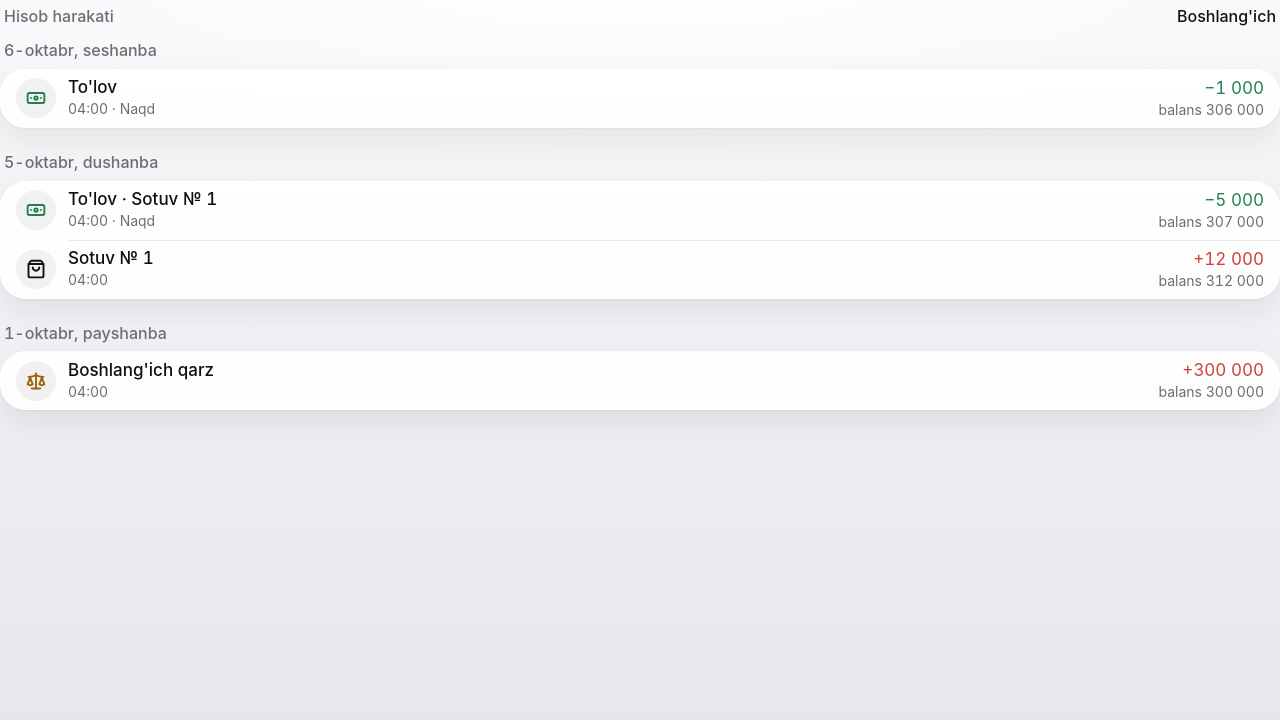
it: a payment or an opening balance entered on its own is edited or deleted from its sheet of actions
Click the button "To'lov 04:00 · Naqd −1 000 balans 306 000" at [36, 98], box 0,69 -> 1279,128
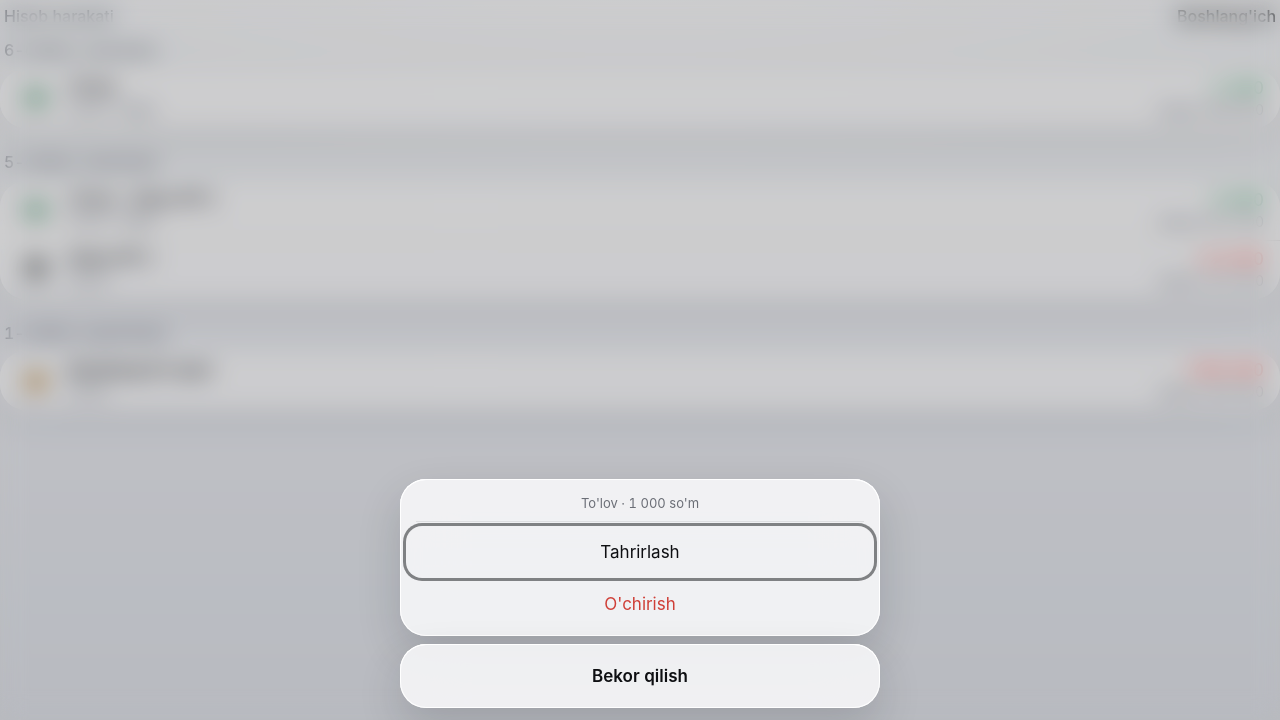
Result: the menu items read "Tahrirlash", "O'chirish", in this order
Click the menu item "Tahrirlash" at [640, 552], box 406,526 -> 874,578
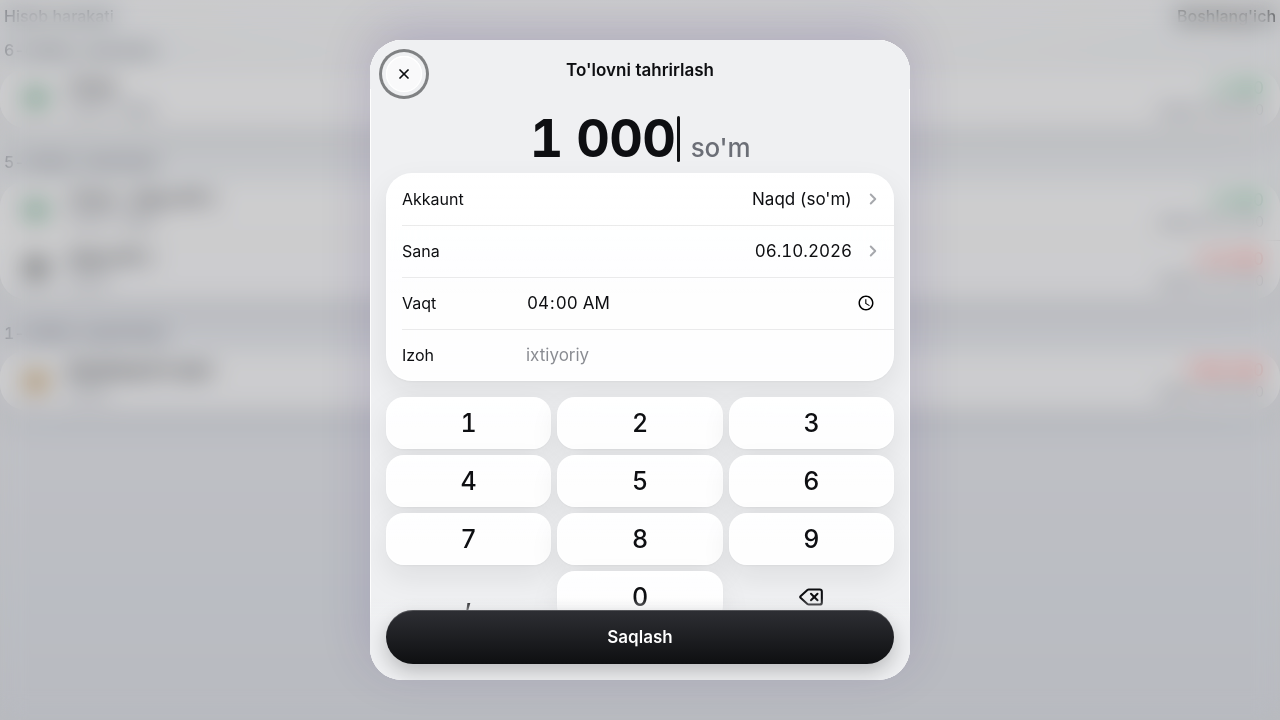
Result: the dialog "To'lovni tahrirlash" is shown at 370,40 -> 910,680
Press Escape
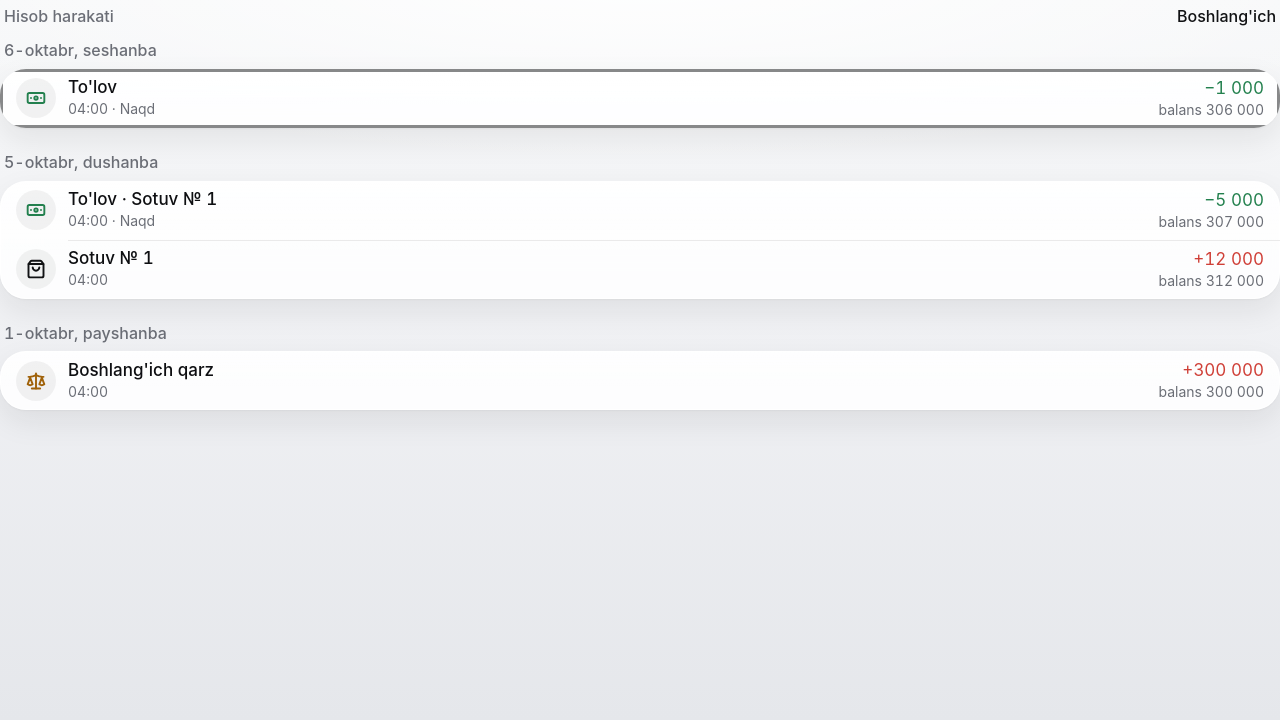
Result: the dialog is gone
Click the button "Boshlang'ich qarz 04:00 +300 000 balans 300 000" at [36, 381], box 0,351 -> 1279,410
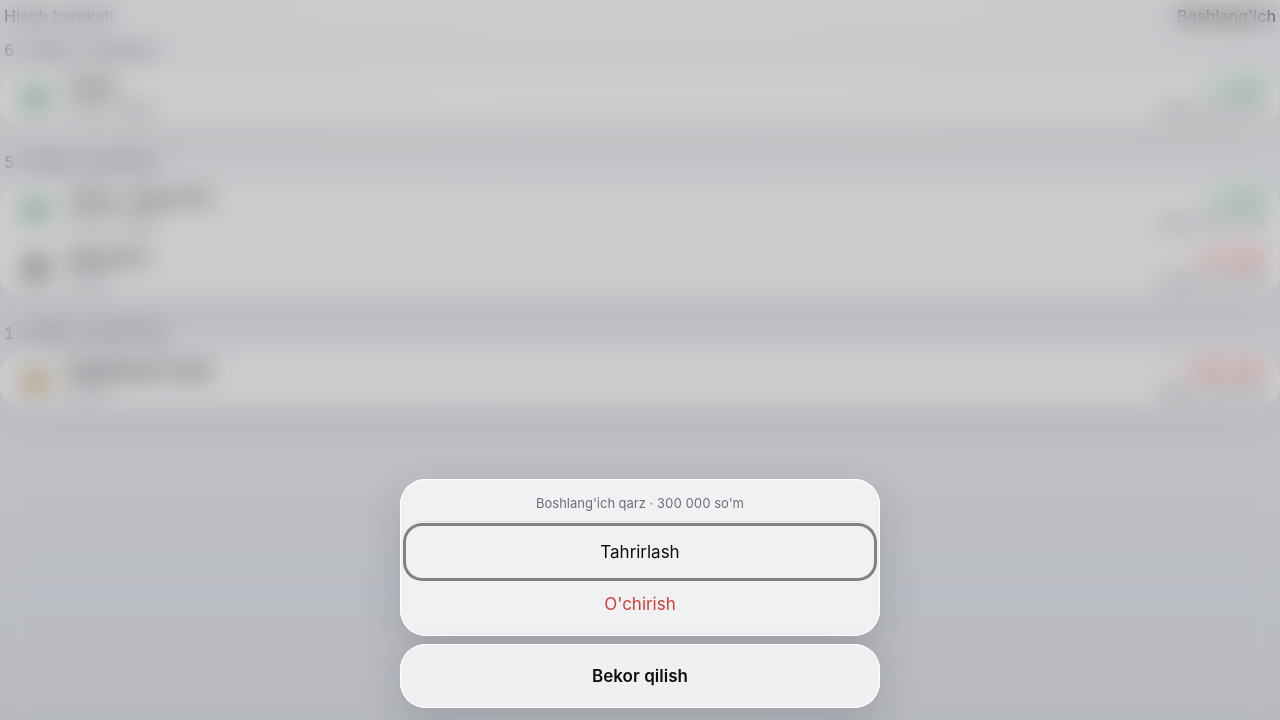
Click the menu item "O'chirish" at [640, 604], box 406,578 -> 874,630
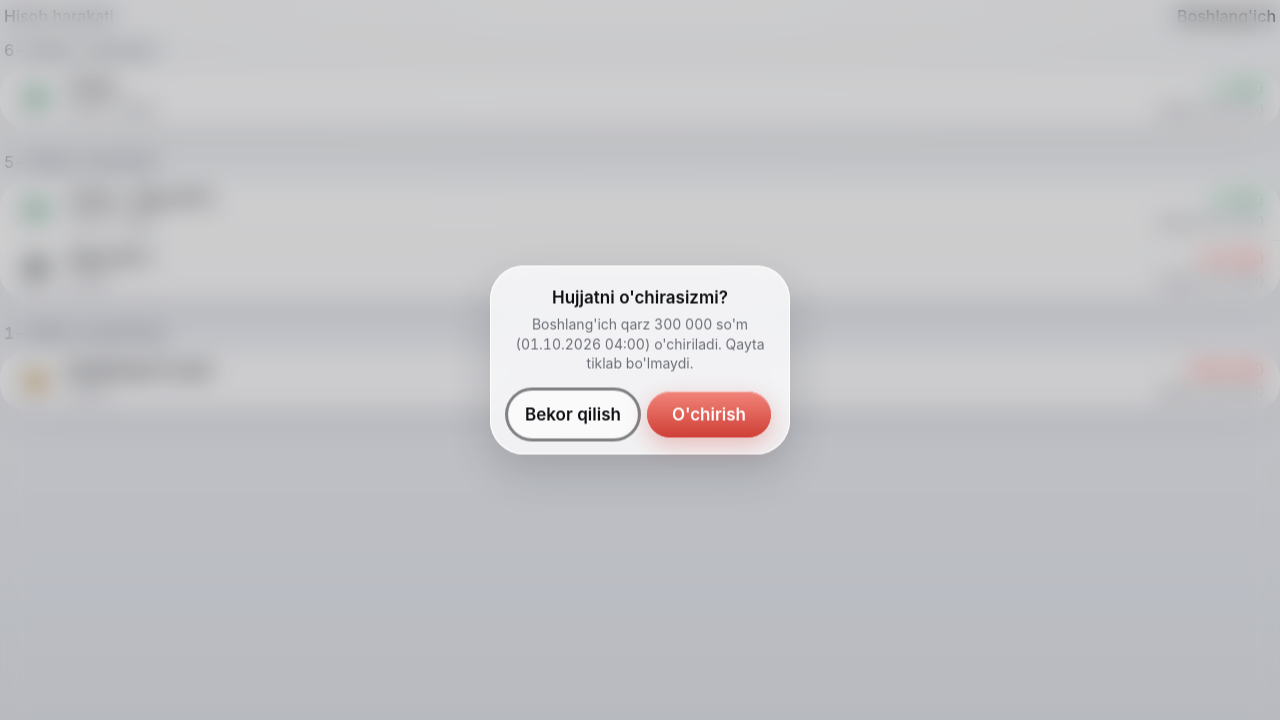
Result: the dialog "Hujjatni o'chirasizmi?" is shown at 490,266 -> 790,454
